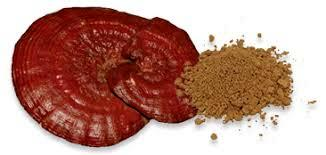Ganoderma - Fruit Body: (11, 7, 205, 150)
